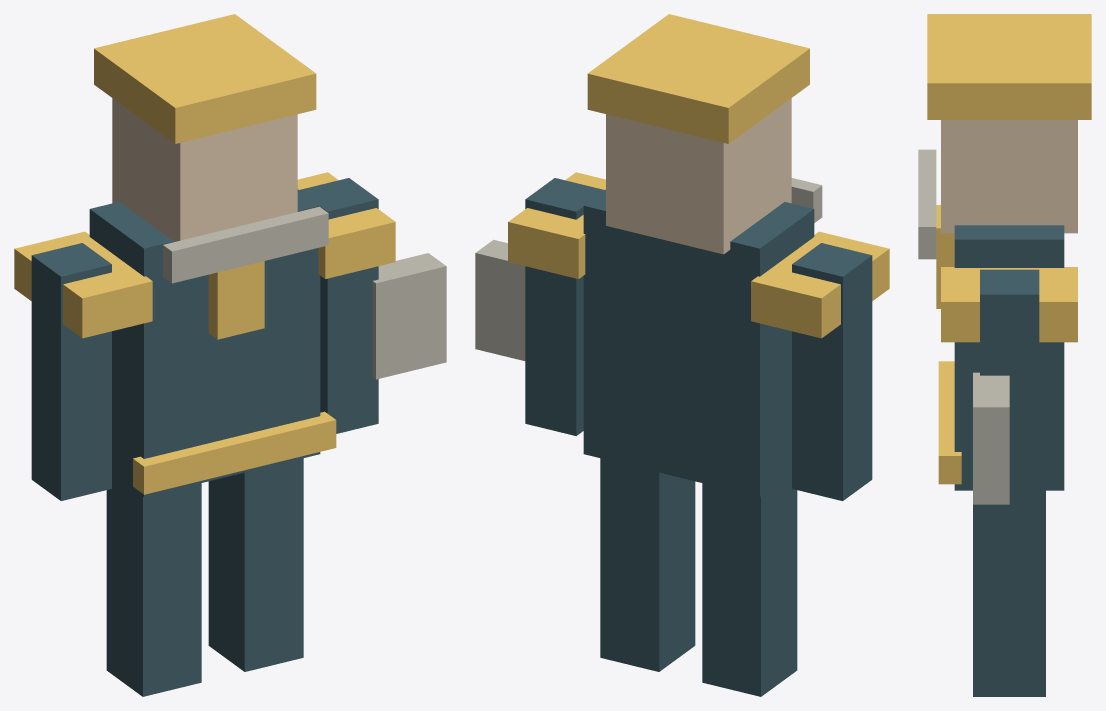
The model's file is 15_noor_brightlock_mechanist_of.glb.
3 renders of one model, left to right at view 1: azimuth 30°, elevation 25°; view 2: azimuth 150°, elevation 25°; view 3: azimuth 270°, elevation 25°, orthographic.
Visible parts, largest first — view 1: Noor Brightlock, Mechanist of; view 2: Noor Brightlock, Mechanist of; view 3: Noor Brightlock, Mechanist of.
Part boxes in pixels (x1,y1,x2,y2): Noor Brightlock, Mechanist of: (14, 14, 446, 696); Noor Brightlock, Mechanist of: (475, 14, 889, 696); Noor Brightlock, Mechanist of: (918, 14, 1091, 696).
Bounding box in the file's own units: 0.9892 × 1.49 × 0.3855.
